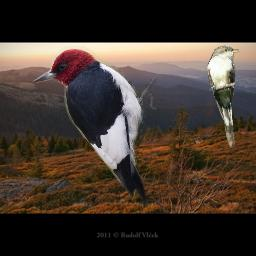Cuckoo: (207, 45, 240, 148)
Woodpecker: (27, 46, 157, 208)
